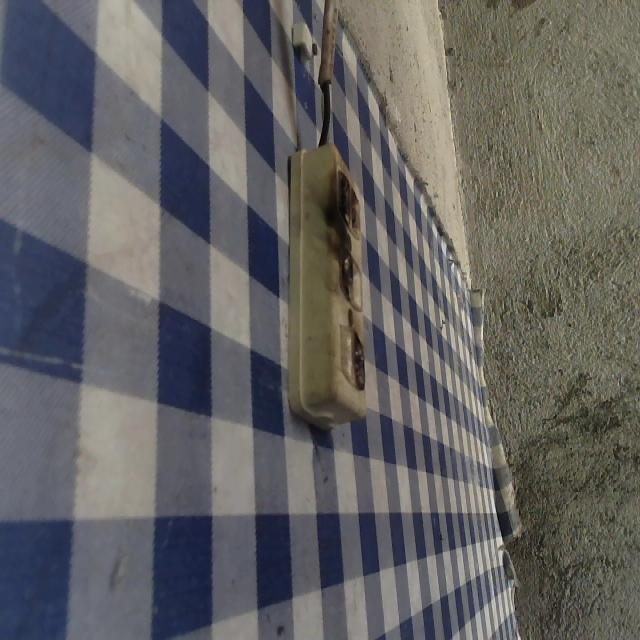-: (322, 162, 370, 242), (333, 251, 361, 304), (347, 326, 368, 391)
